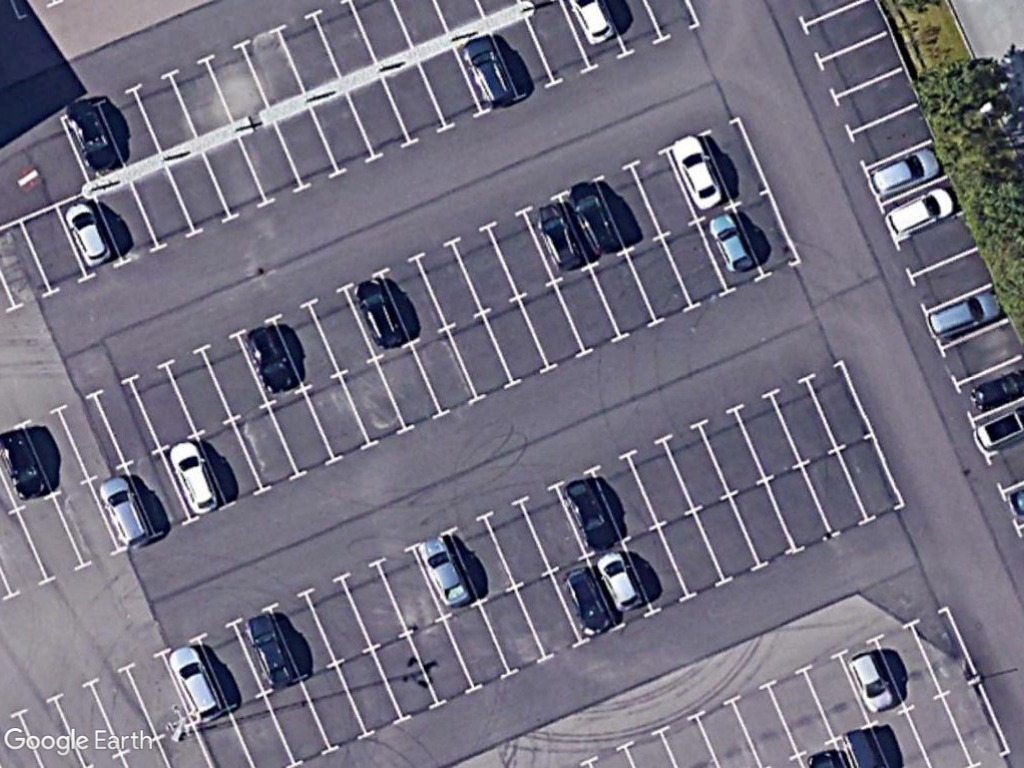car: (456, 31, 525, 111), (168, 643, 232, 728), (164, 436, 223, 521), (670, 128, 729, 212), (560, 472, 620, 554), (882, 180, 959, 241), (243, 321, 303, 399), (565, 179, 623, 258), (417, 532, 474, 611), (96, 473, 155, 549), (560, 561, 617, 638), (243, 610, 297, 691), (920, 285, 1006, 335), (532, 196, 589, 271), (352, 275, 406, 352), (593, 547, 651, 617), (867, 145, 945, 197), (704, 206, 754, 277), (0, 428, 49, 500), (64, 198, 114, 268), (847, 645, 897, 714)
